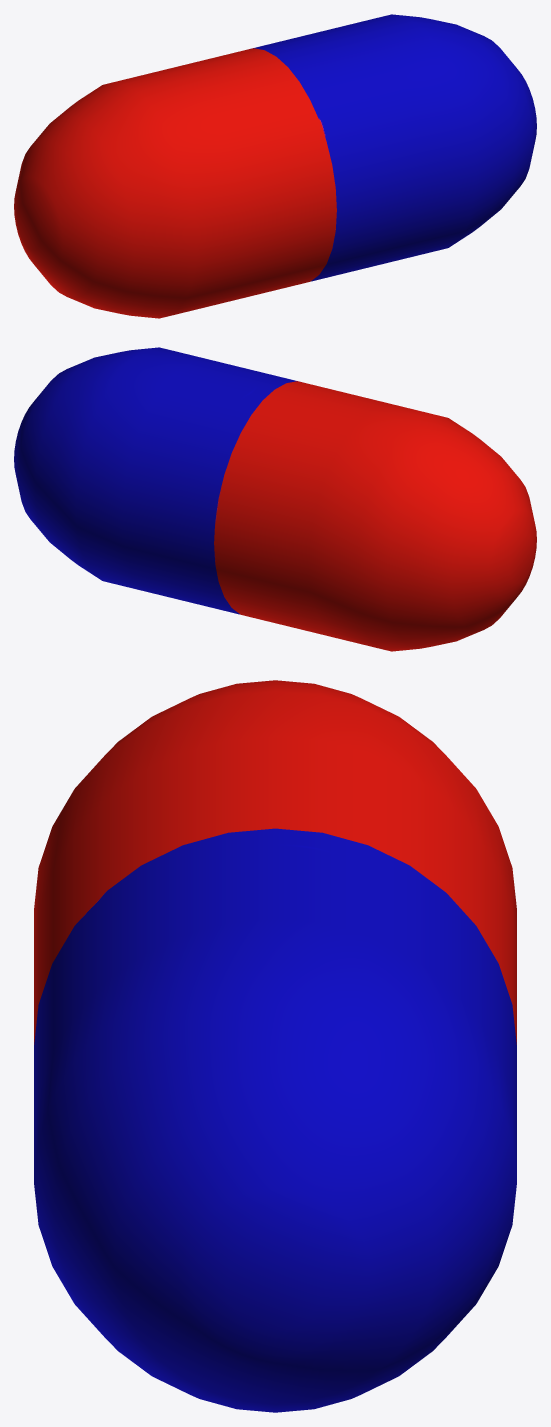
The model's file is health-pill.glb.
3 renders of one model, top to bottom at view 1: azimuth 30°, elevation 25°; view 2: azimuth 150°, elevation 25°; view 3: azimuth 270°, elevation 25°, orthographic. The views are drawn at different scales.
Visible parts, largest first — view 1: Cylinder; view 2: Cylinder; view 3: Cylinder.
Part boxes in pixels (x1,y1,x2,y2): Cylinder: [14, 14, 536, 318]; Cylinder: [14, 347, 536, 651]; Cylinder: [34, 680, 516, 1412].
Size of the model in its own units: 0.9251 by 0.3932 by 0.3932.
1 material, 1 textured.
